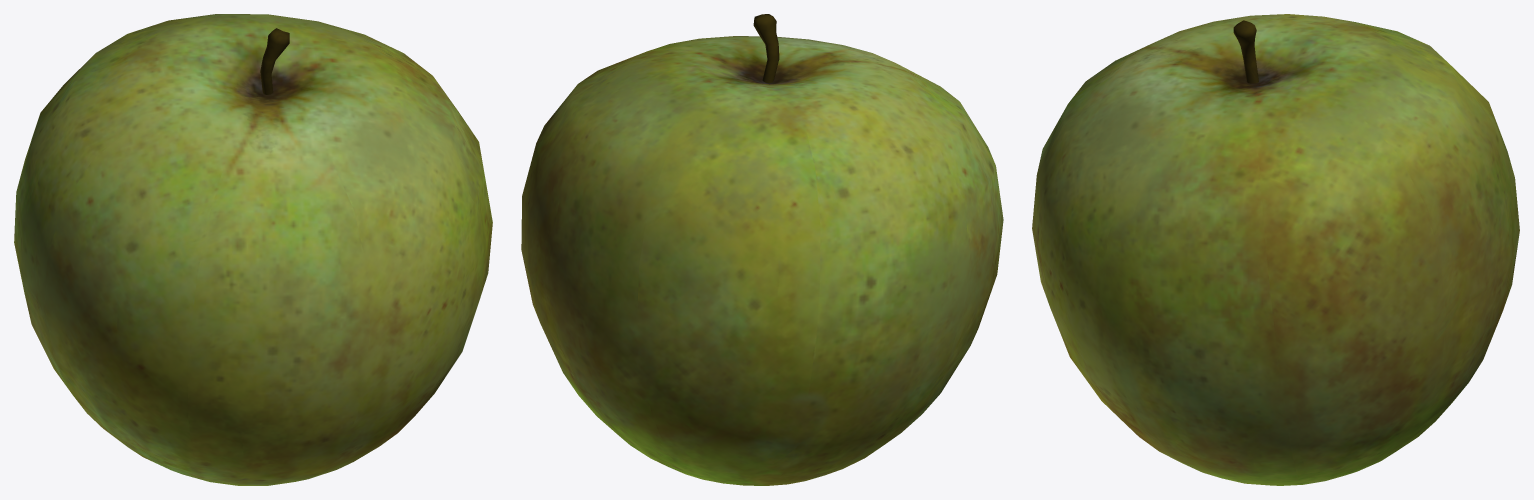
File: green_apple_fbx.glb
The picture shows the model from 3 angles, left to right: view 1: azimuth 30°, elevation 25°; view 2: azimuth 150°, elevation 25°; view 3: azimuth 270°, elevation 25°; orthographic projection. The views are drawn at different scales.
Visible parts, largest first — view 1: GreenApple; view 2: GreenApple; view 3: GreenApple.
Part boxes in pixels (left/top/right/bottom): GreenApple: left=14, top=14, right=492, bottom=485; GreenApple: left=521, top=14, right=1003, bottom=485; GreenApple: left=1032, top=14, right=1519, bottom=485.
Bounding box in the file's own units: 110 × 110 × 110.
Materials: 1 (1 with a texture image).
